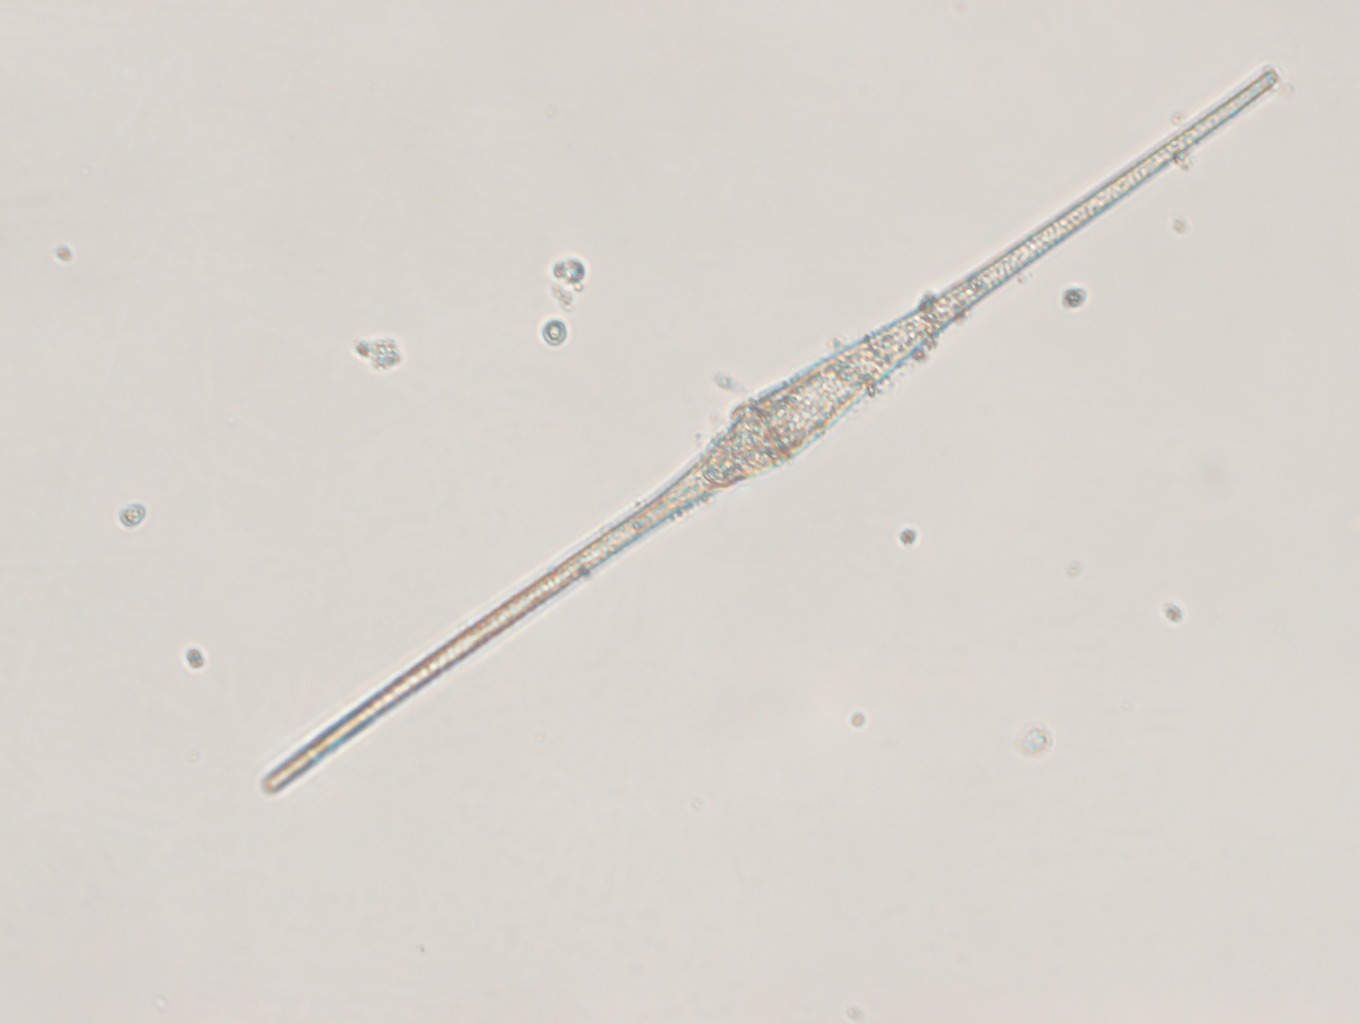ceratium fusus: (256, 65, 1284, 793)
